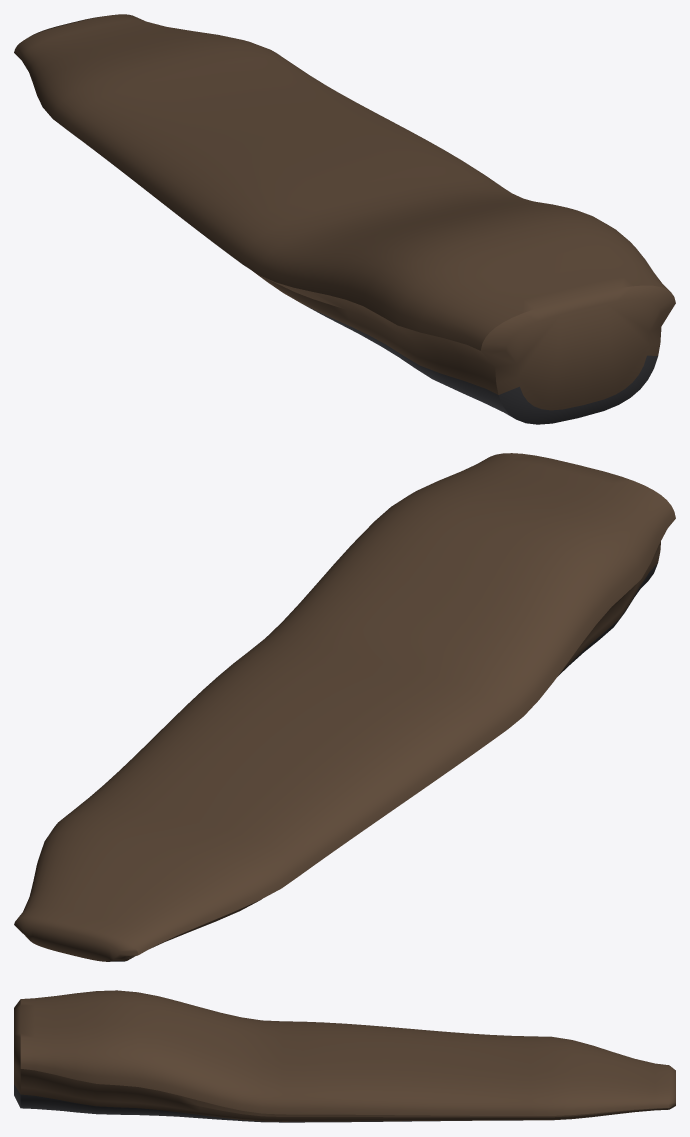
File: gunfighter.glb
3 views of the same model, one above another, from view 1: azimuth 30°, elevation 25°; view 2: azimuth 150°, elevation 25°; view 3: azimuth 270°, elevation 25° (orthographic). The views are drawn at different scales.
Visible parts, largest first — view 1: lod0; view 2: lod0; view 3: lod0.
Part boxes in pixels (box(x1,y1,x2,y2)): lod0: box(14, 14, 675, 424); lod0: box(14, 453, 675, 961); lod0: box(14, 990, 675, 1122).
Size of what is drawn, in the model's own units: 0.2991 by 0.1399 by 1.
